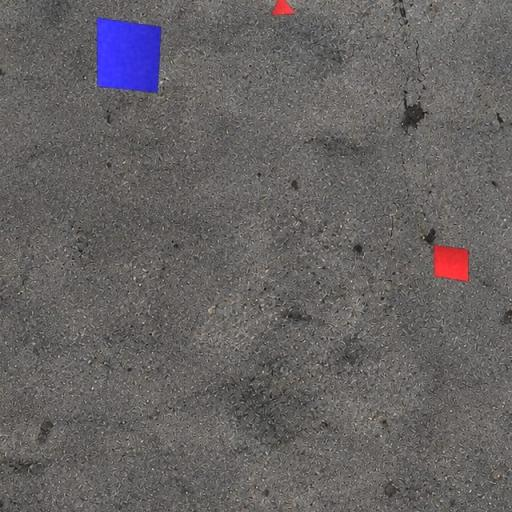BLUE_SQUARE: (96, 16, 162, 94)
RED_SQUARE: (432, 244, 470, 282)
